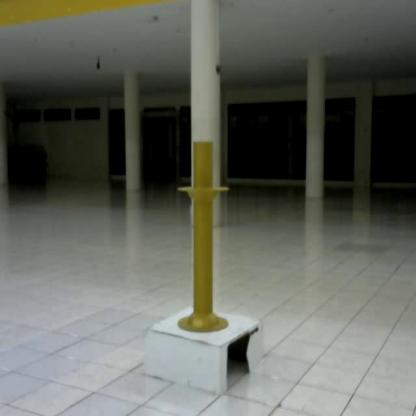pole: (174, 136, 237, 340)
